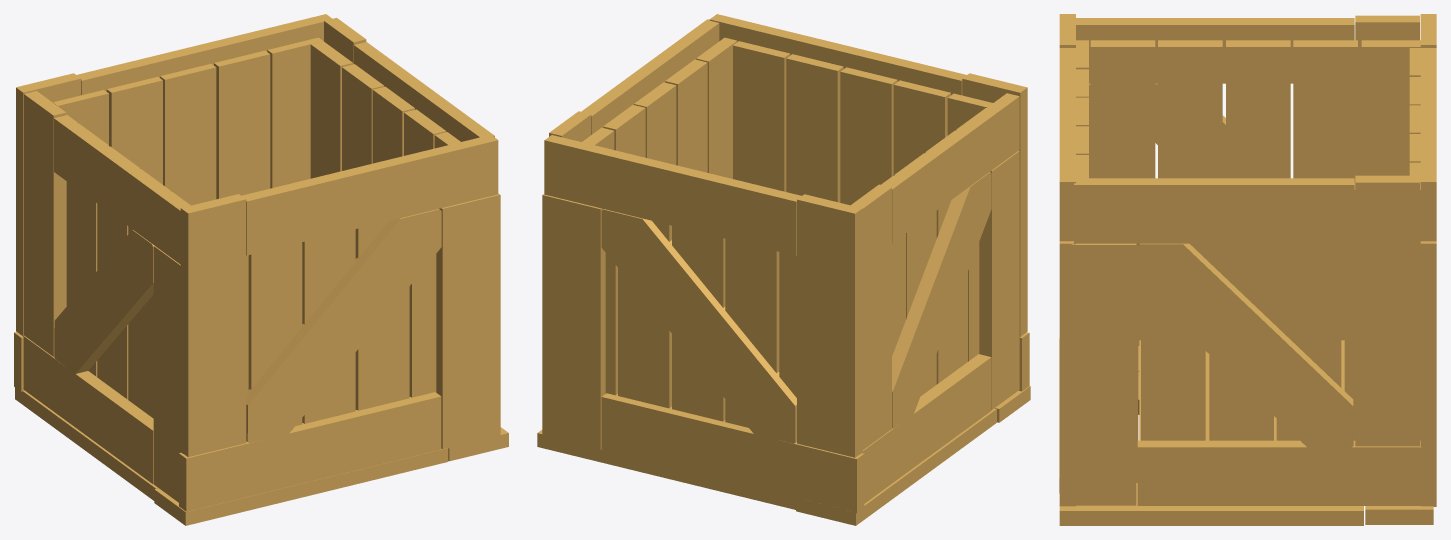
File: WoodenBoxOpen.fbx
The picture shows the model from 3 angles, left to right: view 1: azimuth 30°, elevation 25°; view 2: azimuth 150°, elevation 25°; view 3: azimuth 270°, elevation 25°; orthographic projection. The views are drawn at different scales.
Visible parts, largest first — view 1: WoodboxOpen; view 2: WoodboxOpen; view 3: WoodboxOpen.
Part boxes in pixels (bbox=[...]): WoodboxOpen: bbox=[14, 14, 508, 525]; WoodboxOpen: bbox=[537, 14, 1030, 525]; WoodboxOpen: bbox=[1059, 14, 1436, 525].
Size of the model in its own units: 658 by 606 by 608.
